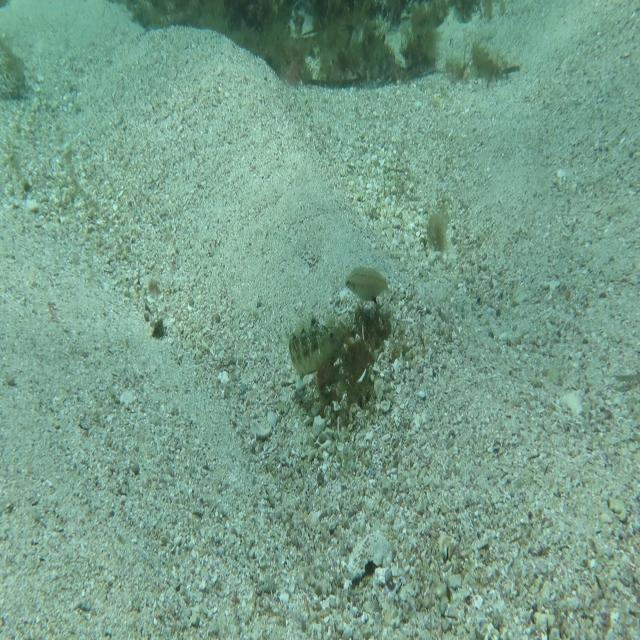BEND: (286, 307, 344, 383)
female: (342, 258, 393, 306)
nest: (298, 311, 402, 446)
vegetation: (131, 0, 527, 32), (261, 37, 440, 94), (424, 210, 453, 263)
